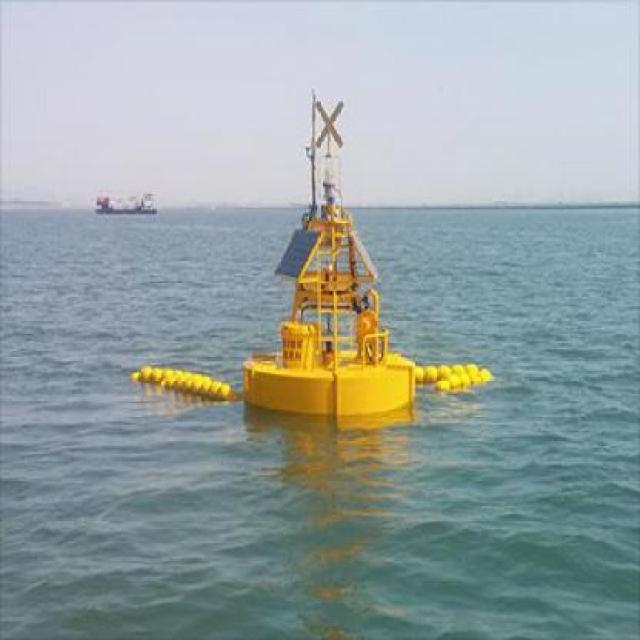buoy: (239, 79, 421, 442)
